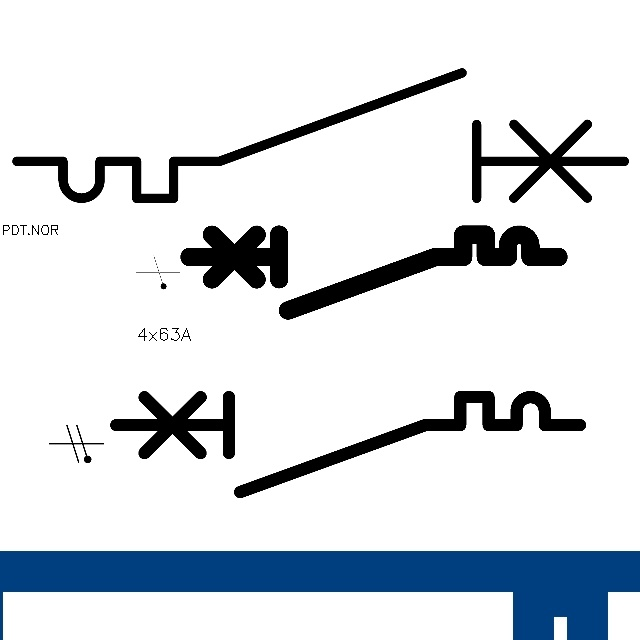interruptor_termomagnetico: (1, 57, 640, 214), (104, 385, 592, 504), (179, 225, 567, 320)
